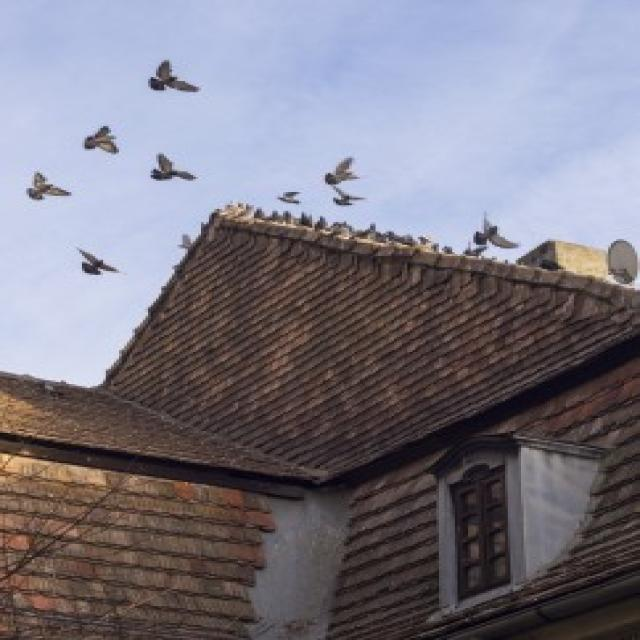bird: (148, 59, 199, 92), (474, 213, 520, 249), (150, 153, 198, 181), (26, 172, 72, 200), (77, 248, 119, 275), (84, 126, 120, 154), (324, 156, 360, 184), (330, 185, 366, 206), (276, 191, 302, 204)
